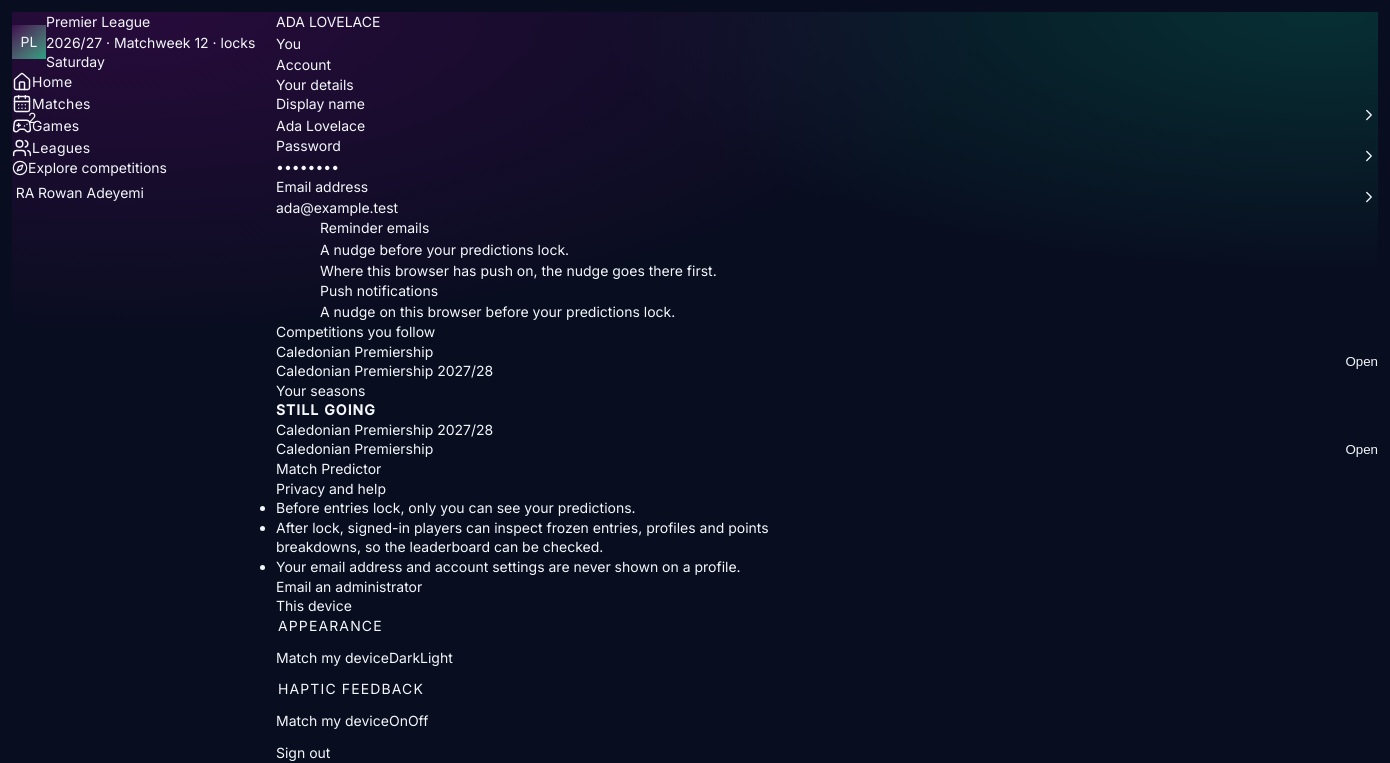
the account offers exactly the notification controls that can work › returns to the stored position and explains a refusal
Click the switch labelled "Push notifications".
click(379, 290)  # box top-left (276, 281), bottom-right (1378, 322)
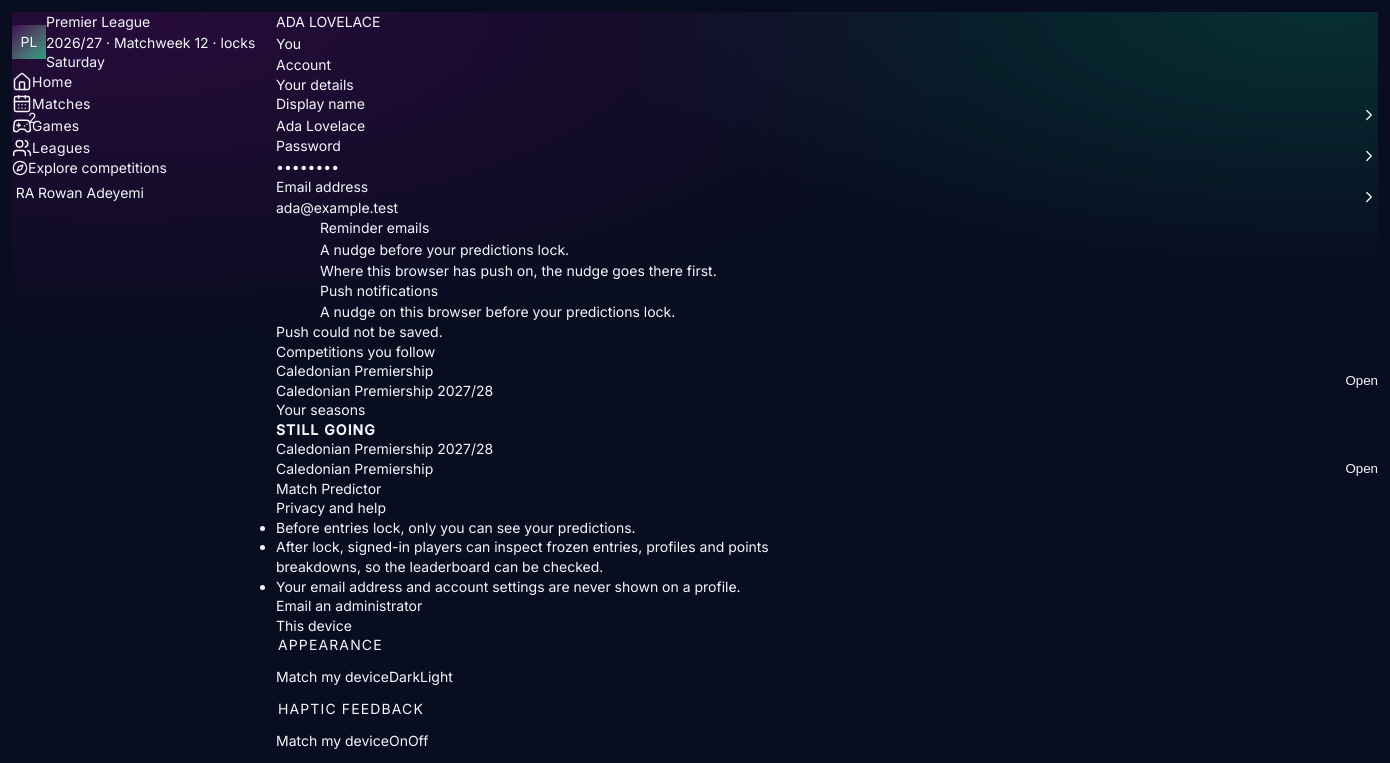
Expected: the message reads "Push could not be saved.", top-left (276, 323), bottom-right (443, 340)
